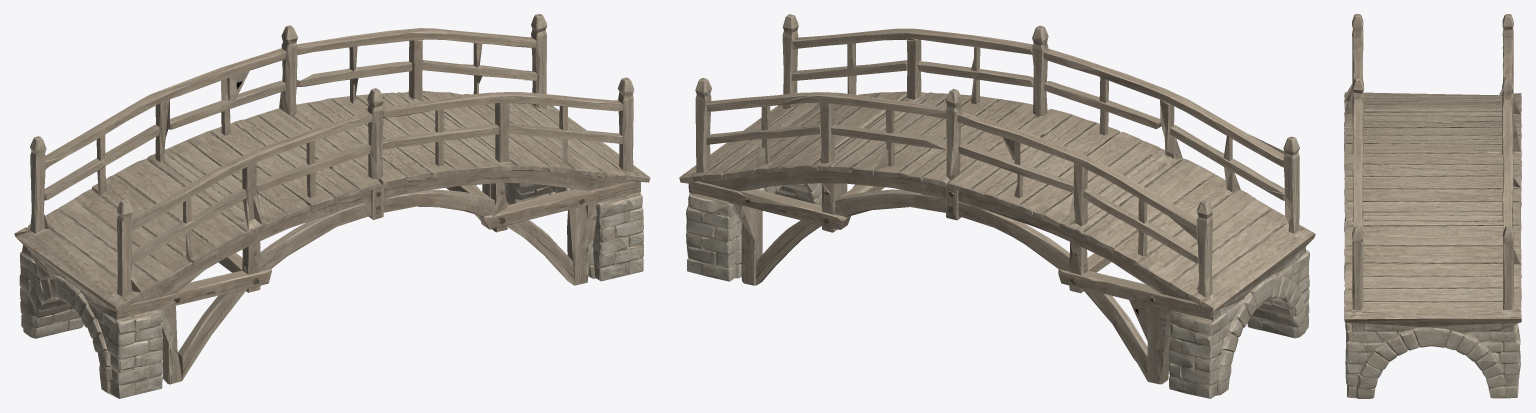
The model's file is Ponte.glb.
The picture shows the model from 3 angles, left to right: view 1: azimuth 30°, elevation 25°; view 2: azimuth 150°, elevation 25°; view 3: azimuth 270°, elevation 25°; orthographic projection. The views are drawn at different scales.
Visible parts, largest first — view 1: output_unwrapped; view 2: output_unwrapped; view 3: output_unwrapped.
Boxes of the visible parts, bbox=[...] form: output_unwrapped: bbox=[14, 14, 650, 398]; output_unwrapped: bbox=[679, 14, 1315, 398]; output_unwrapped: bbox=[1344, 14, 1521, 398].
Size of the model in its own units: 1.9 by 0.8211 by 0.6305.
1 material, 1 textured.
